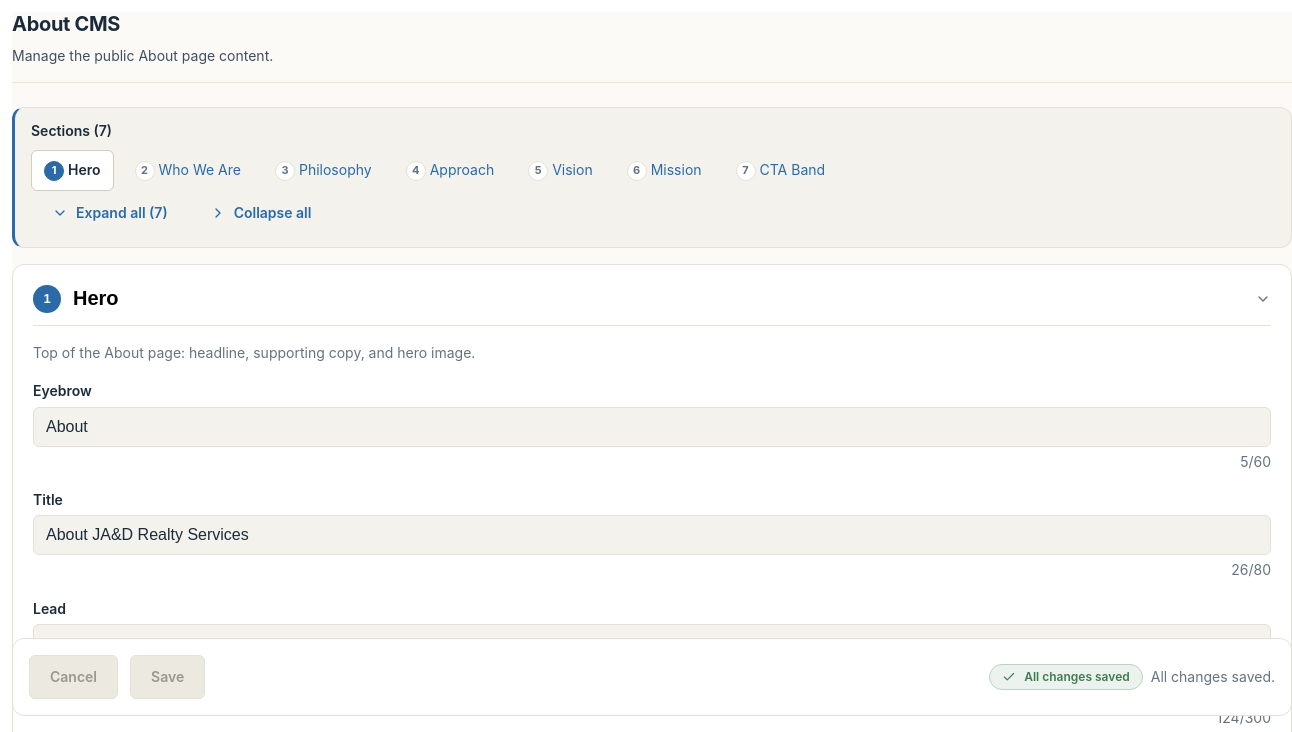
CmsAboutPage — Phase 2 About CMS › allows text editing and reflects in preview
Check: the heading "Hero" is shown, box [73,287,119,310]
Replace the text in the field showing "About JA&D Realty Services" with "New About Title" at (652, 535), box [33,515,1271,555]
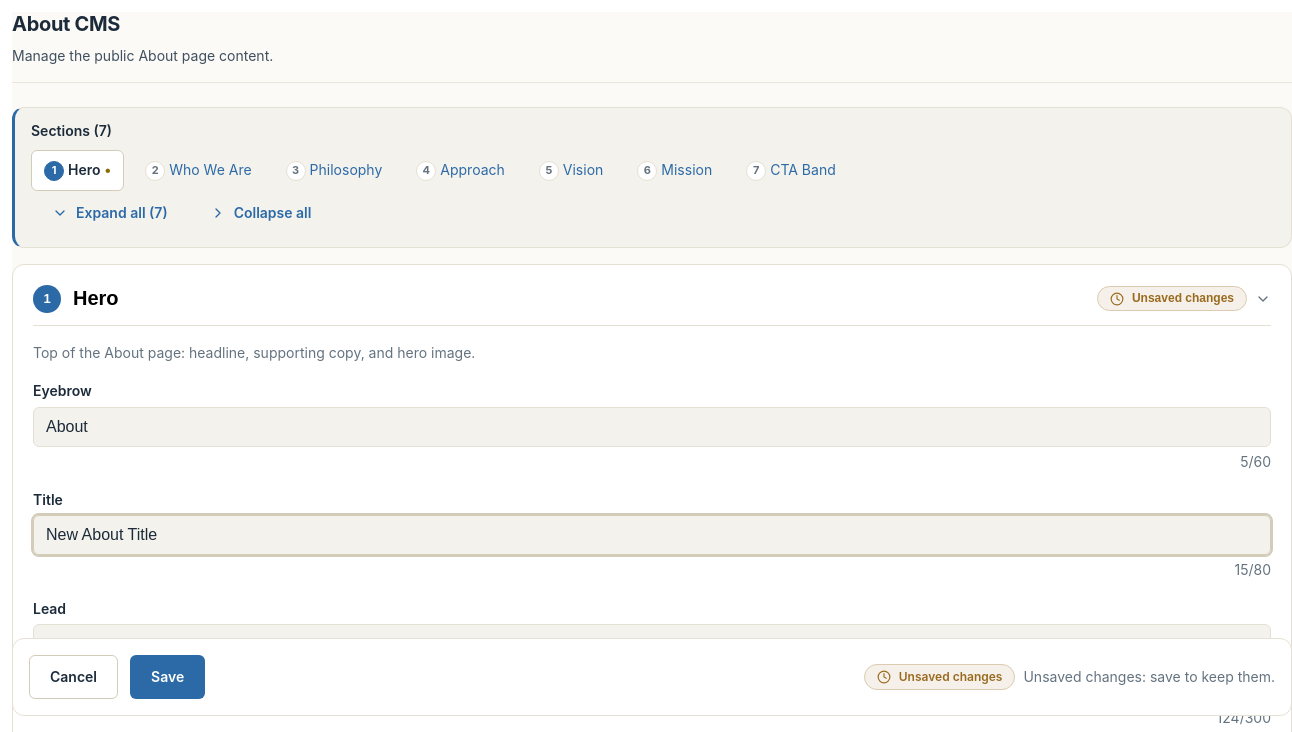
Check: the 1st text "Unsaved changes" is shown, box [1097,286,1247,311]
Check: the button "Save" is enabled, box [130,655,205,699]
